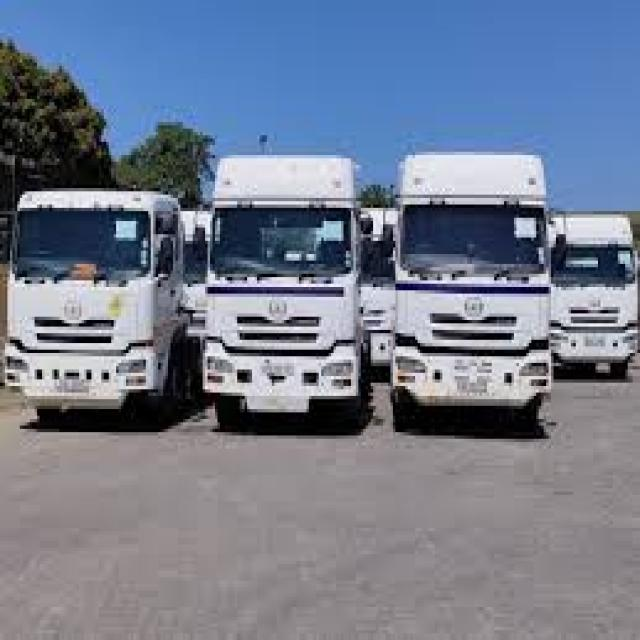Heavy Duty Truck: (198, 155, 378, 432), (381, 148, 554, 436), (2, 181, 186, 429), (556, 198, 640, 383)
